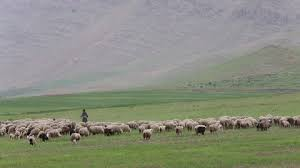sheep: (104, 123, 123, 135), (220, 115, 235, 129), (87, 123, 103, 136), (193, 123, 206, 135), (208, 121, 221, 133), (46, 127, 63, 136), (141, 127, 153, 139), (26, 134, 37, 147), (173, 124, 184, 134), (70, 132, 81, 142), (121, 123, 132, 133), (279, 118, 290, 127), (258, 118, 270, 125), (7, 131, 16, 140), (158, 124, 166, 132)
